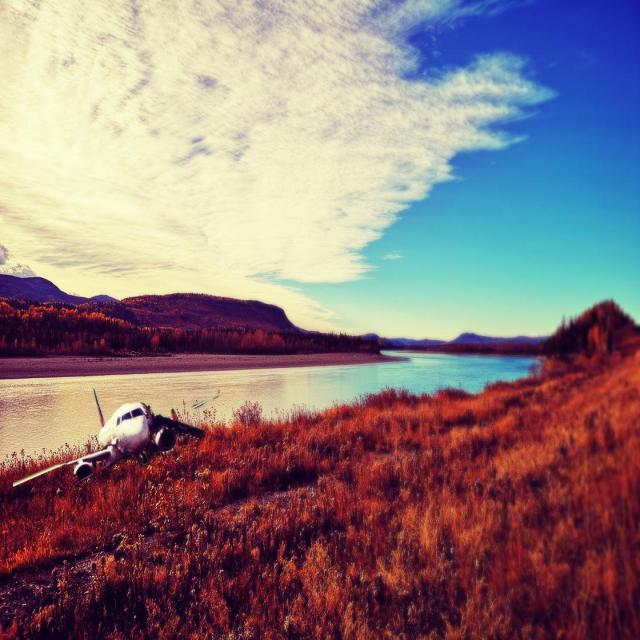airplane: (12, 386, 206, 489)
